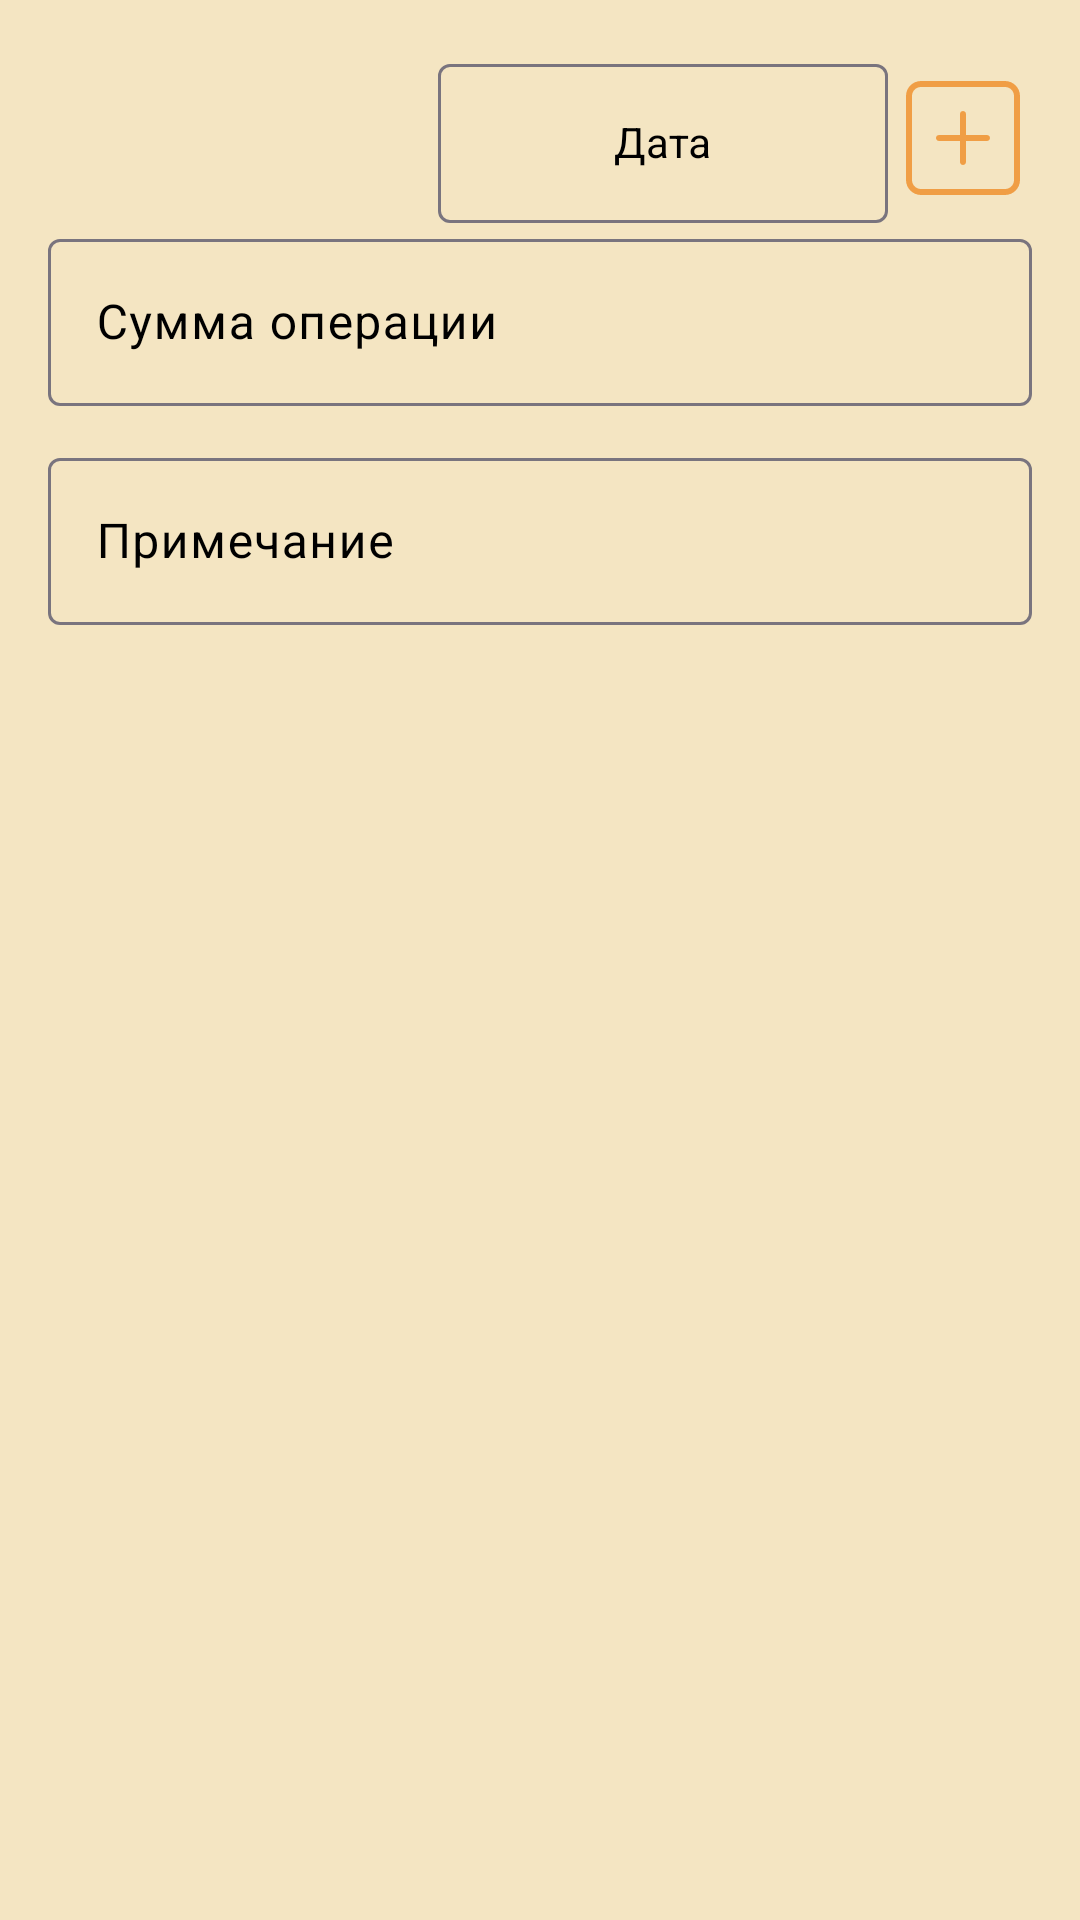

Named icons in this screenshot (1080 x 1920) and their bounding boxes, (x1, y1, x2, y2):
add: (906, 81, 1020, 195)
